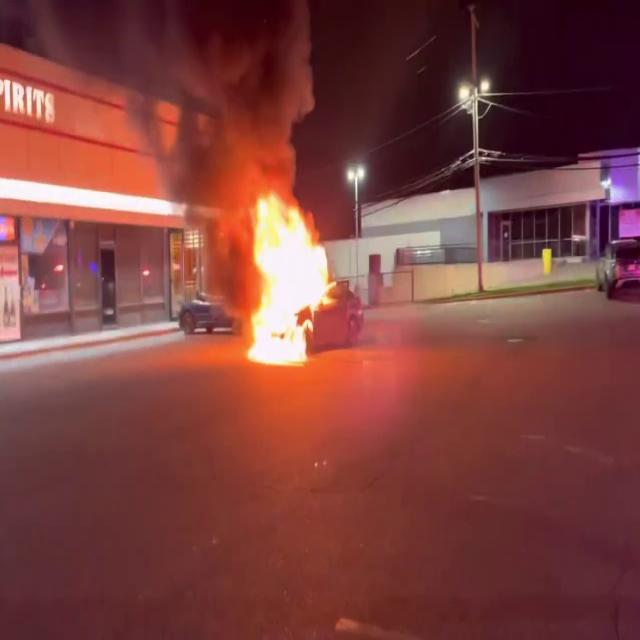Fire: (236, 183, 342, 365)
Smoke: (89, 0, 327, 194)
